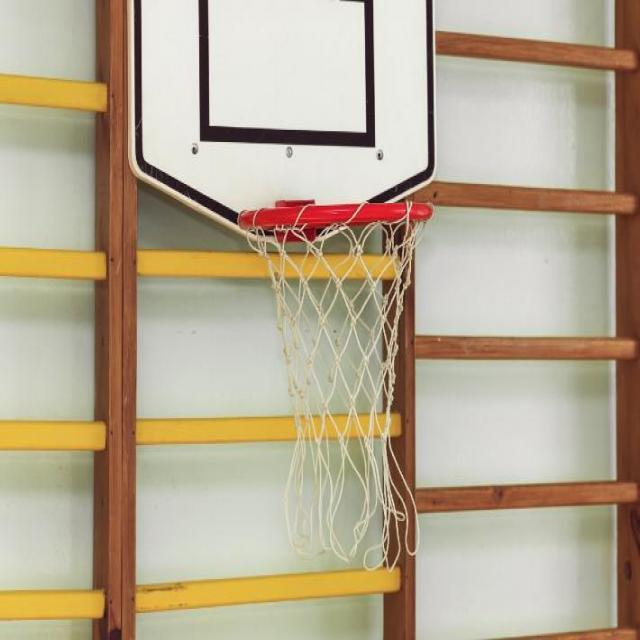hoop: (238, 202, 436, 572)
